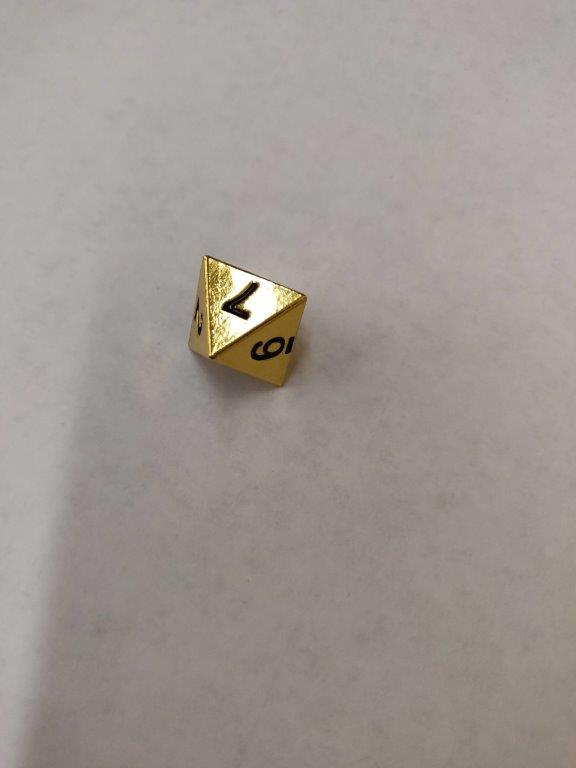d8-7: (182, 252, 306, 390)
